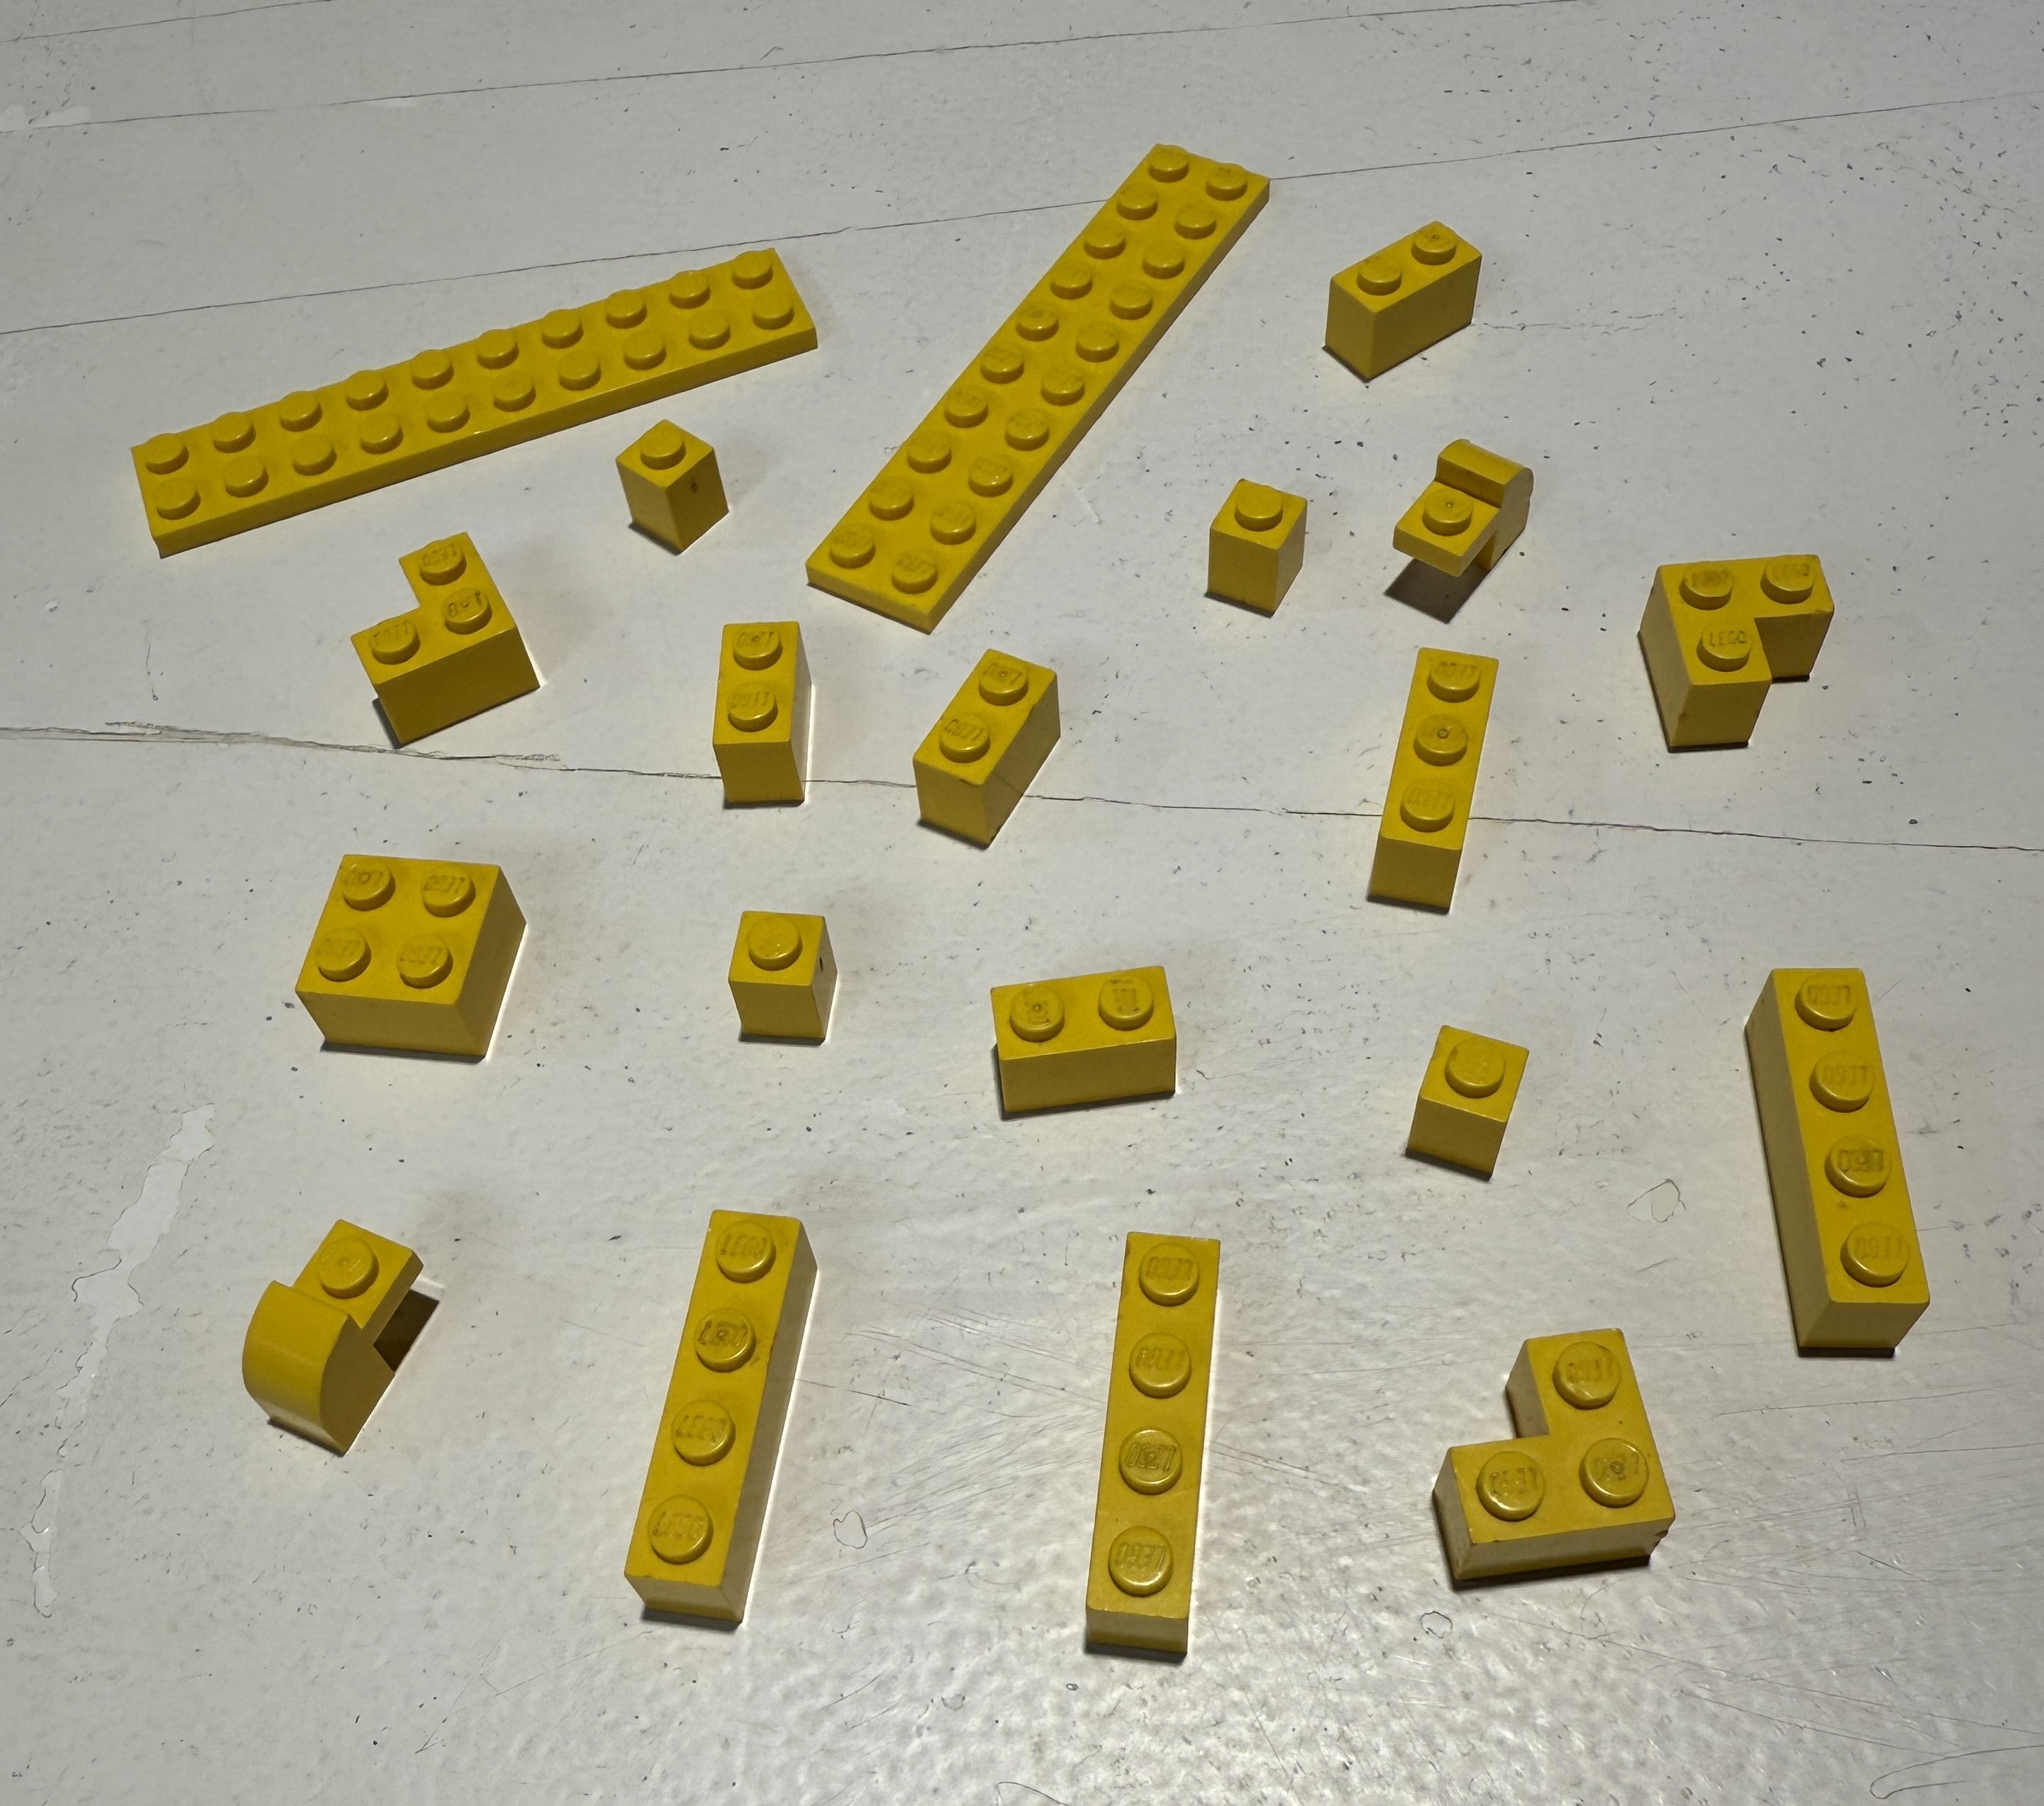brick_1x1: (589, 377, 760, 582), (697, 866, 868, 1067), (1394, 1006, 1547, 1206), (1187, 455, 1331, 628)
brick_1x2: (953, 940, 1227, 1133), (876, 633, 1080, 865), (1314, 197, 1516, 406), (690, 600, 836, 844)
brick_1x3: (1343, 633, 1547, 927)
brick_1x4: (598, 1178, 840, 1647), (1028, 1213, 1258, 1679), (1718, 945, 1939, 1396)
brick_2x2: (270, 835, 577, 1083)
